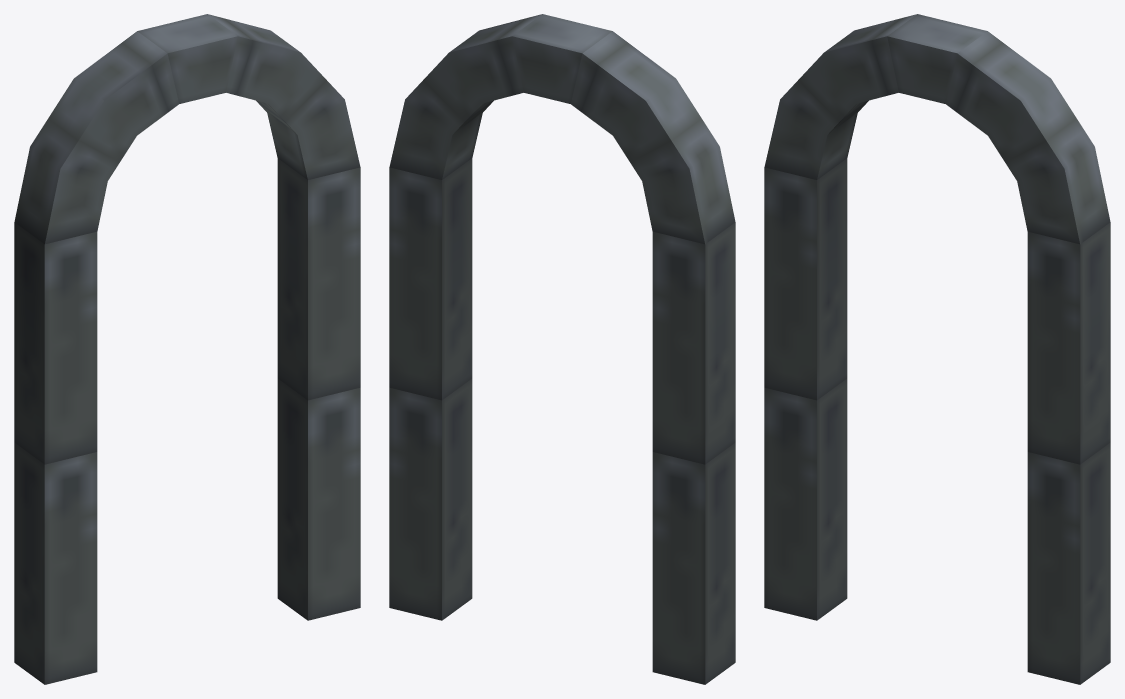
File: arch_high_03_blue.fbx
The picture shows the model from 3 angles, left to right: view 1: azimuth 30°, elevation 25°; view 2: azimuth 150°, elevation 25°; view 3: azimuth 330°, elevation 25°; orthographic projection.
Visible parts, largest first — view 1: arch_high_03_blue; view 2: arch_high_03_blue; view 3: arch_high_03_blue.
Part boxes in pixels (bbox=[...]): arch_high_03_blue: bbox=[14, 14, 360, 684]; arch_high_03_blue: bbox=[389, 14, 735, 684]; arch_high_03_blue: bbox=[764, 14, 1110, 684].
Size of the model in its own units: 24 by 43.7 by 4.
